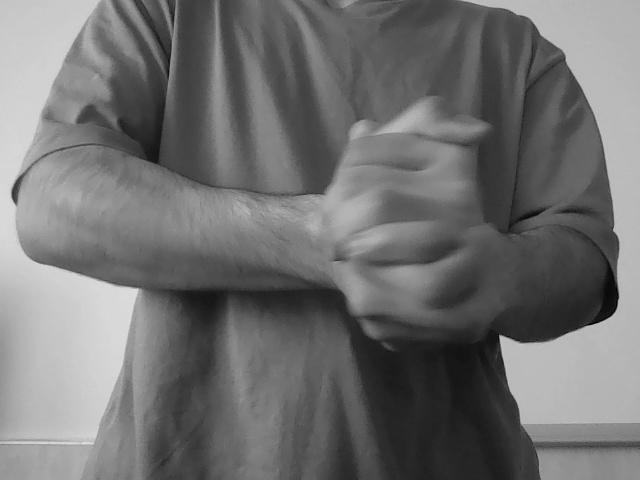friend: (319, 84, 508, 341)
